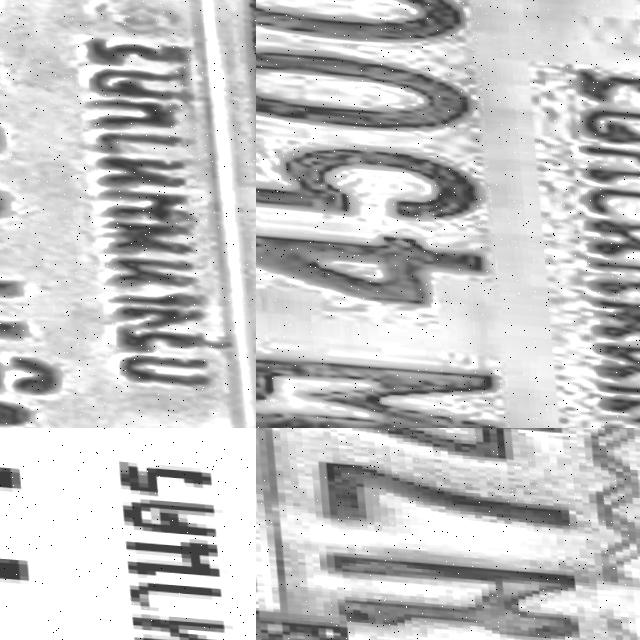license-plate: (256, 0, 640, 428), (0, 0, 256, 428), (256, 428, 640, 640), (0, 428, 256, 640)
